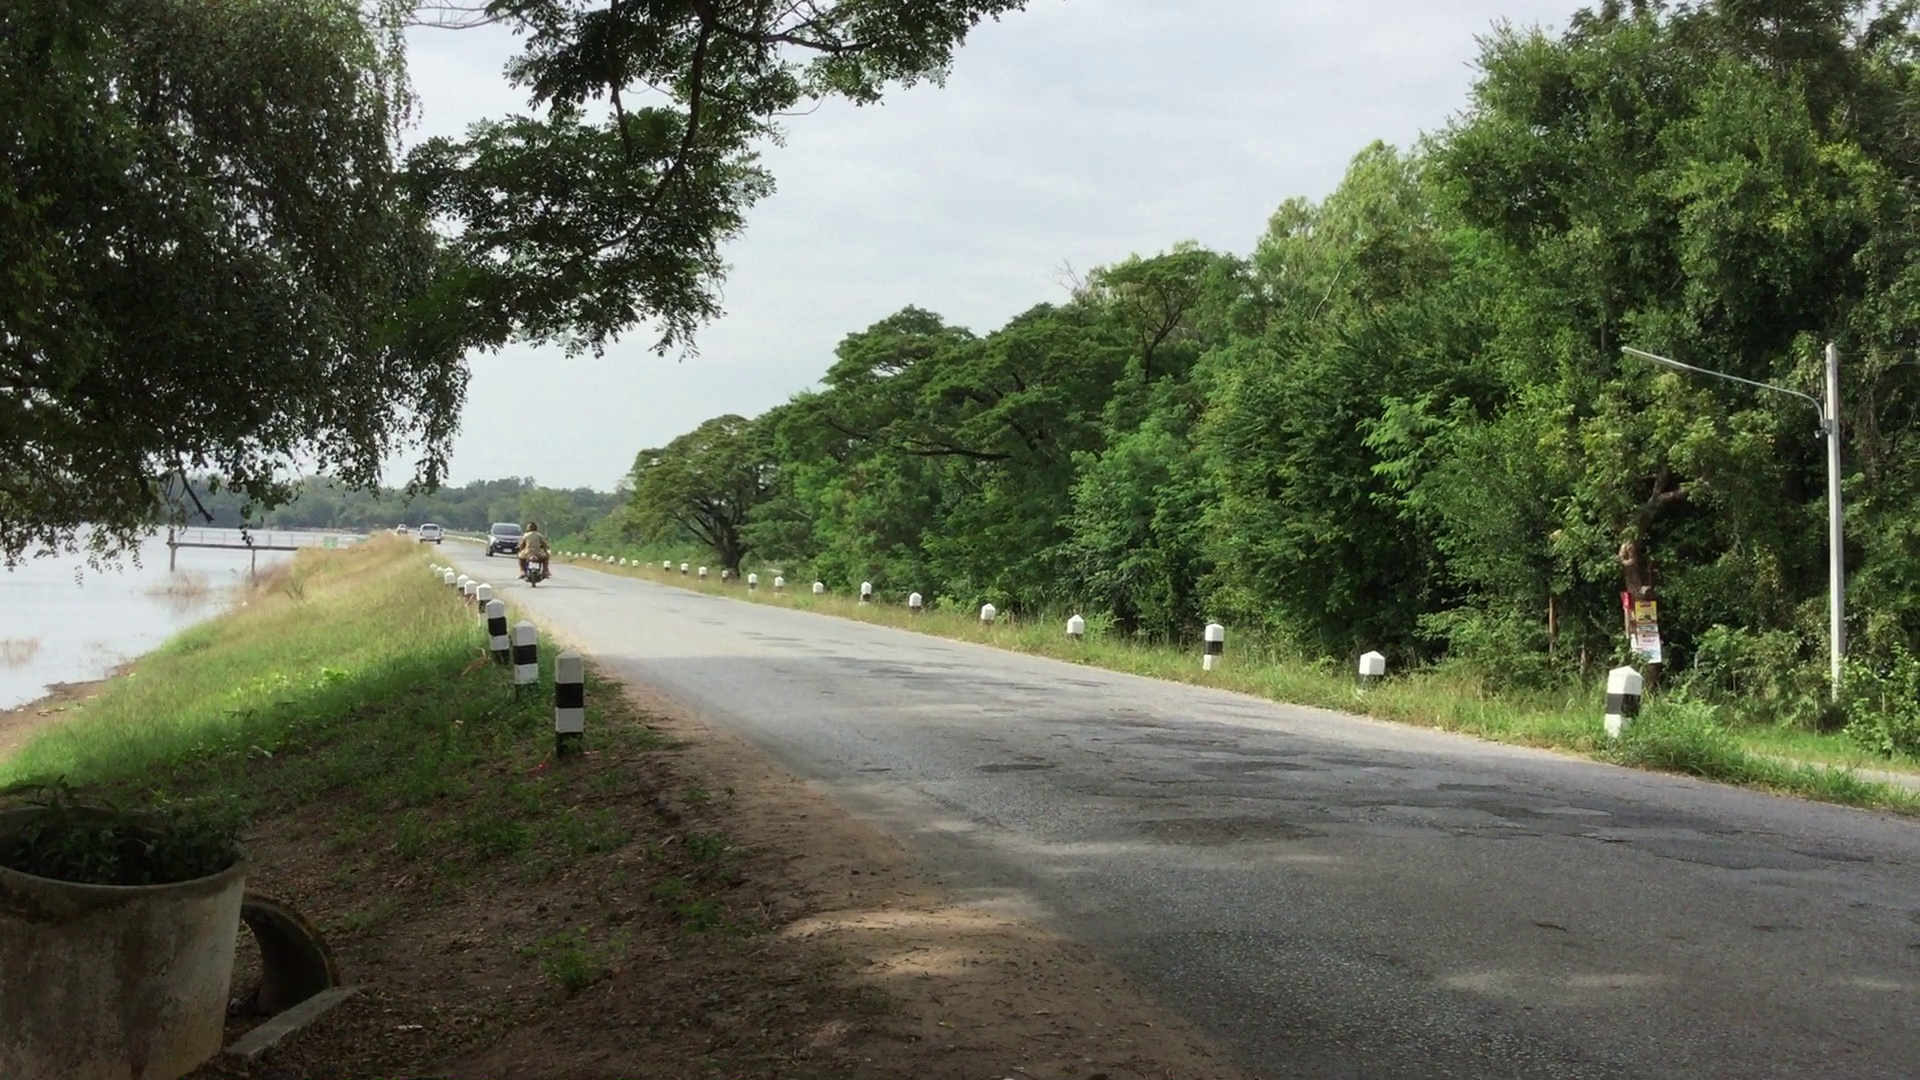person: (511, 516, 561, 578)
post: (545, 644, 602, 755), (499, 616, 547, 712), (1606, 655, 1652, 748), (1195, 614, 1236, 682)
